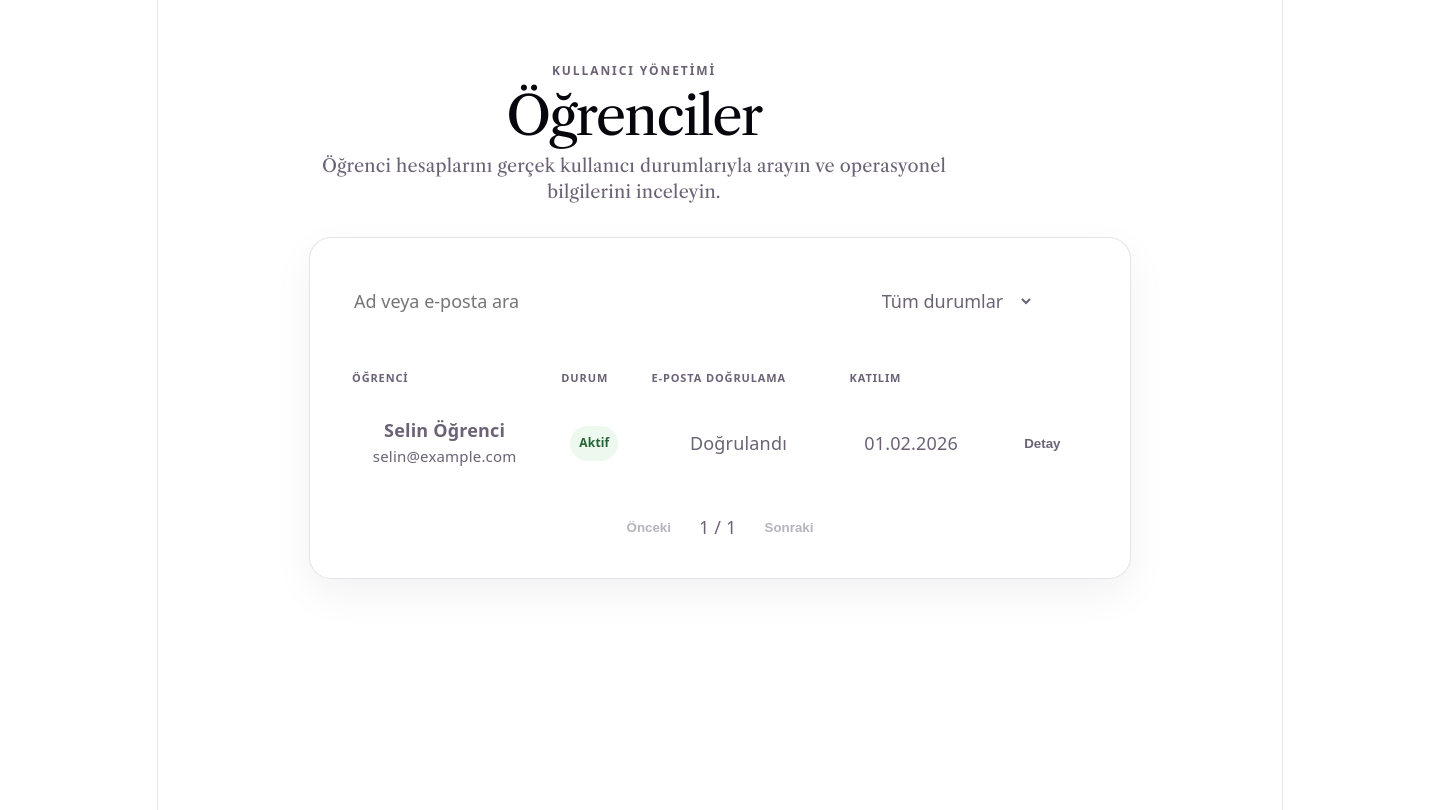
Test: admin management experience › reuses admin media moderation when removing a student profile photo
Click the button "Detay" at (1042, 443), box [1008,422,1076,464]
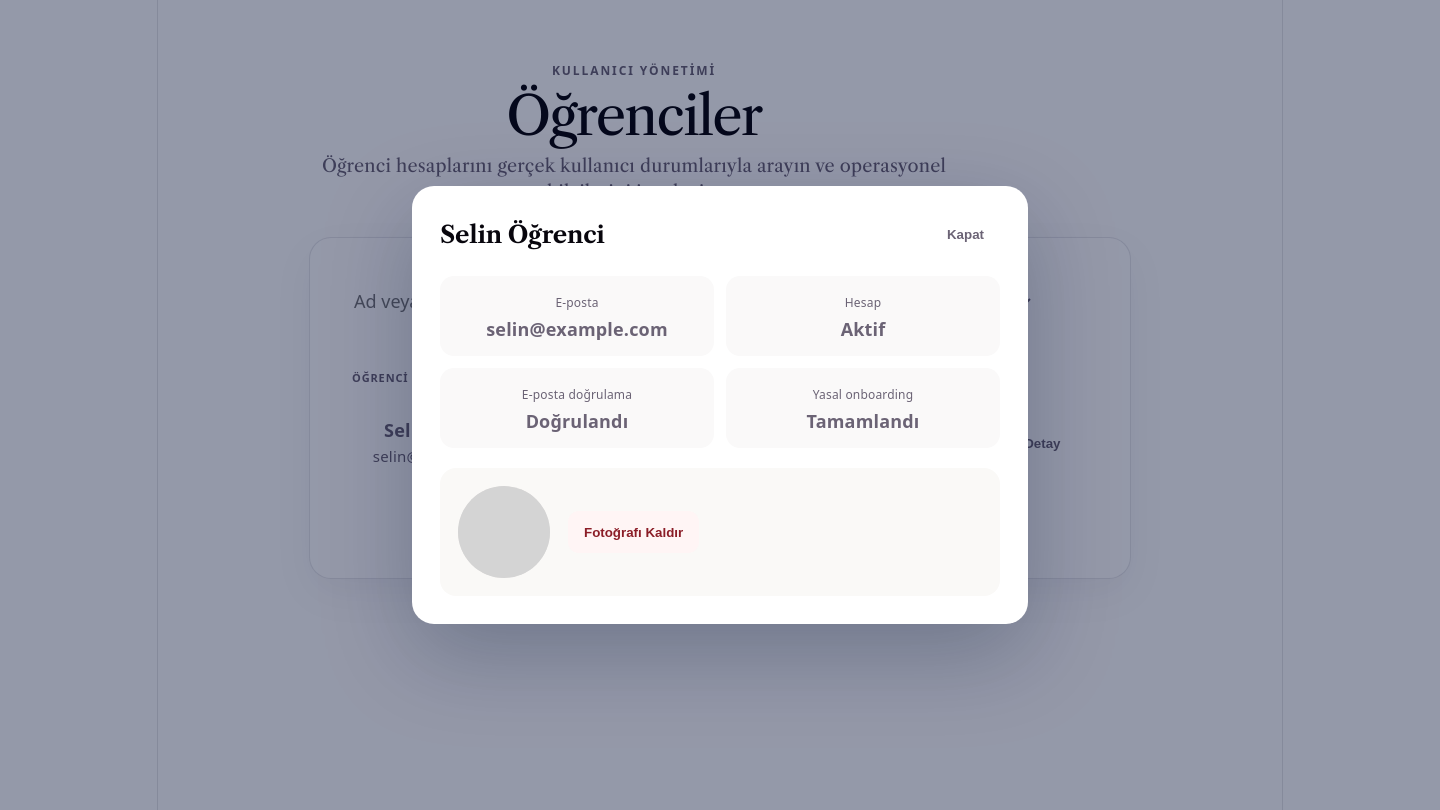
Click the button "Fotoğrafı Kaldır" at (634, 532), box [568,511,699,553]
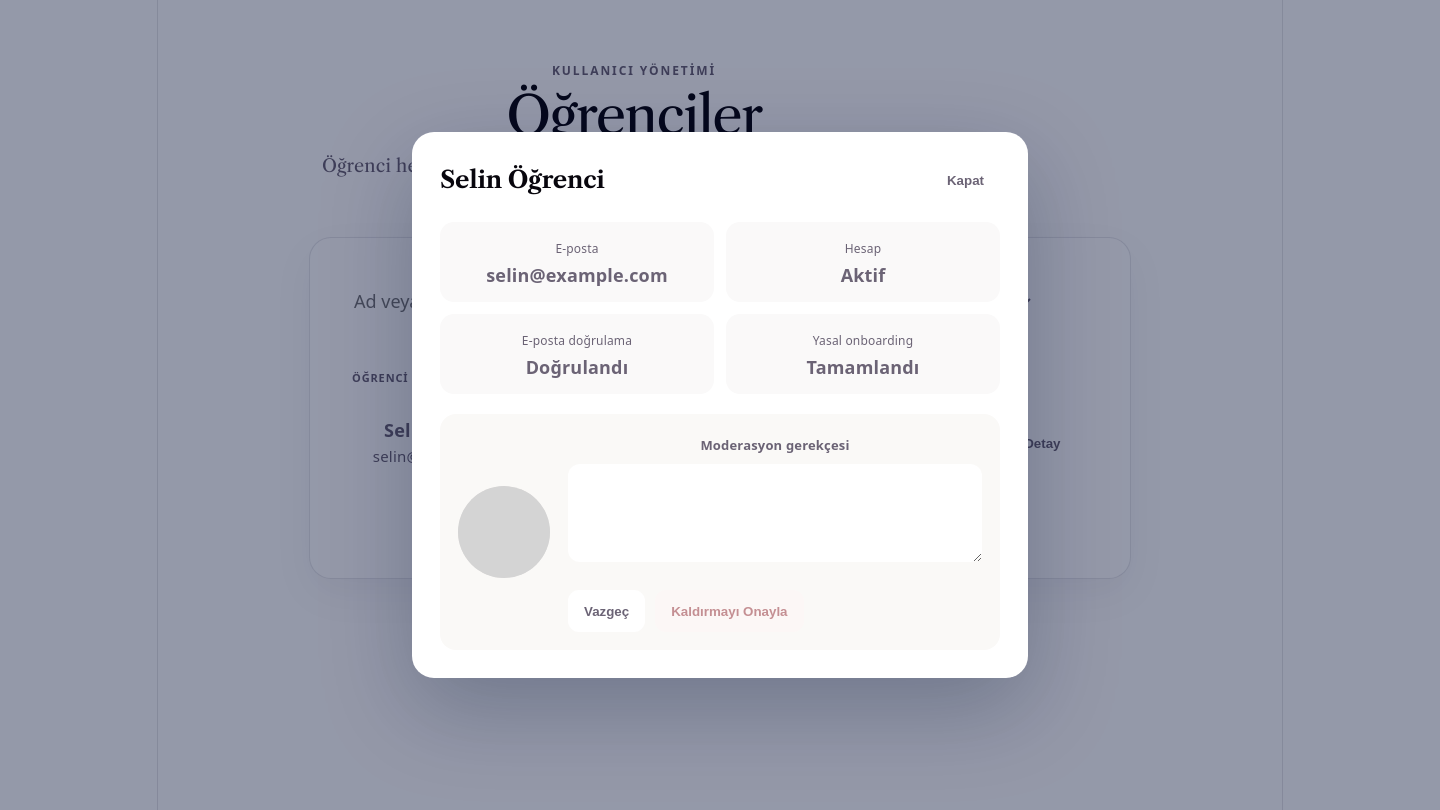
Type "Uygunsuz içerik" into the text box labelled "Moderasyon gerekçesi" at (775, 513), box [568,464,982,562]
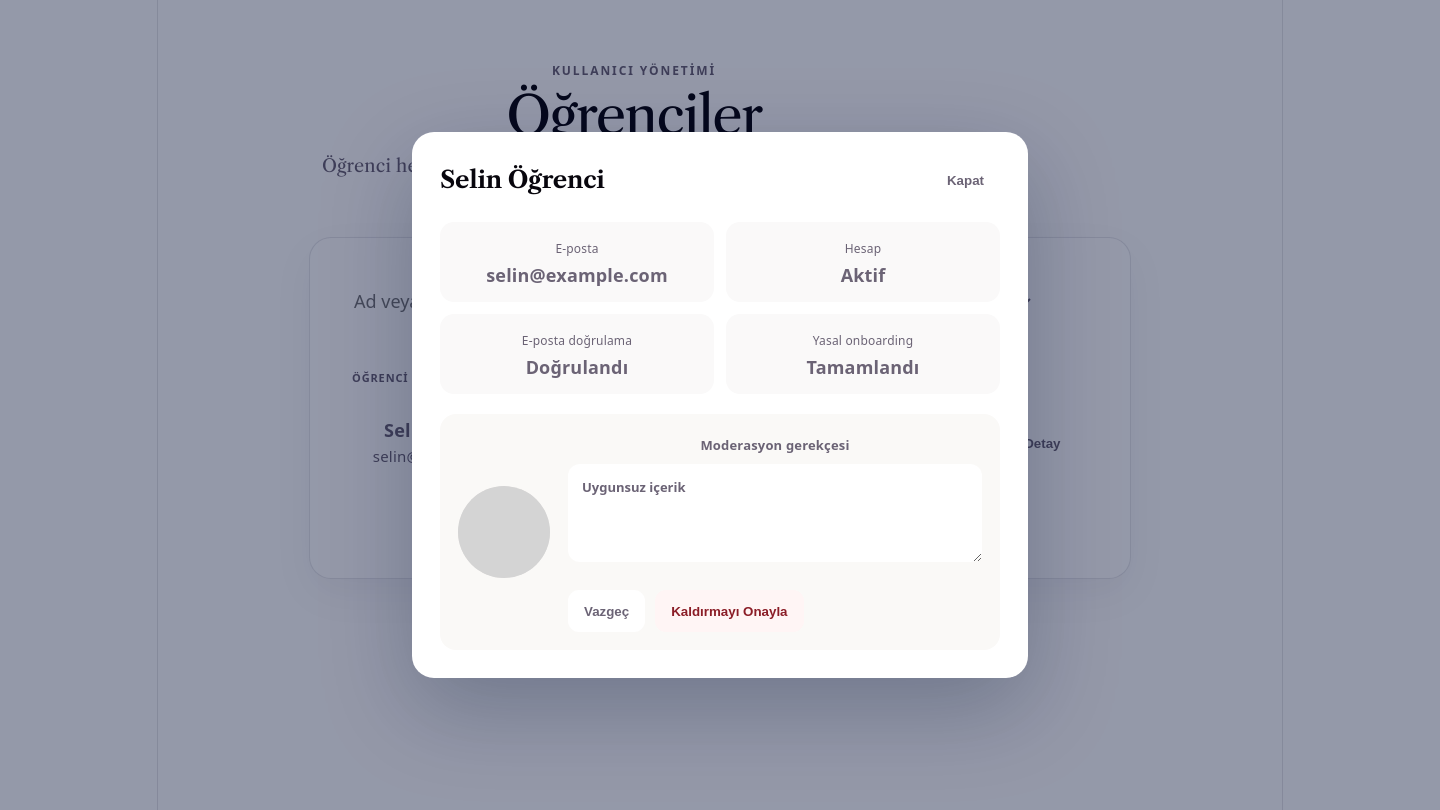
Click the button "Kaldırmayı Onayla" at (729, 611), box [655,590,804,632]
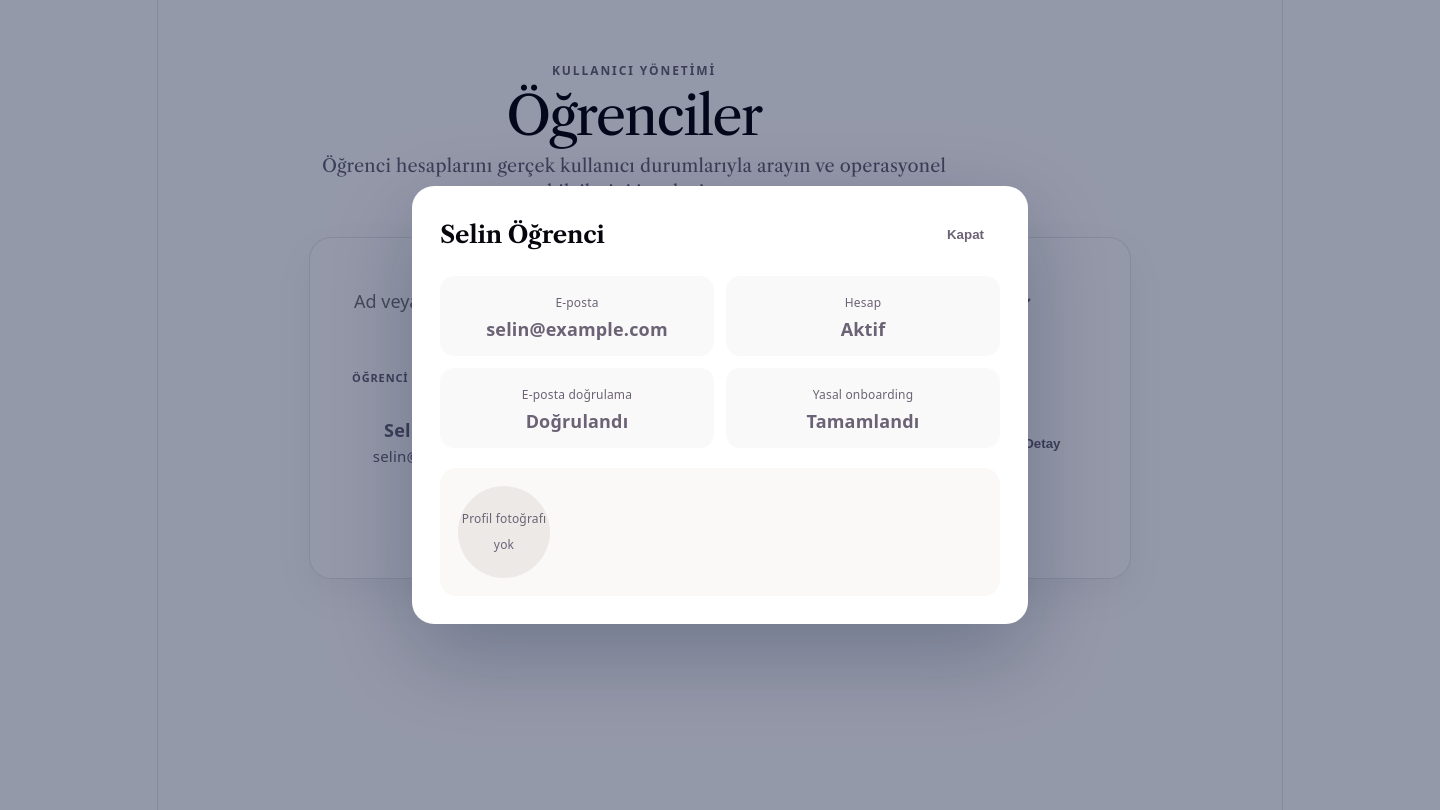
Result: the text "Profil fotoğrafı yok" is shown at [458,506,550,558]
